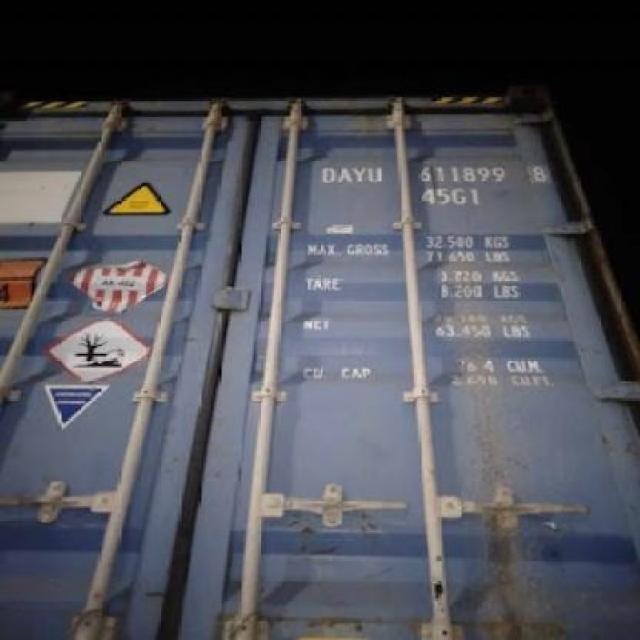ISO: (423, 188, 482, 208)
container_number: (319, 156, 561, 185)
